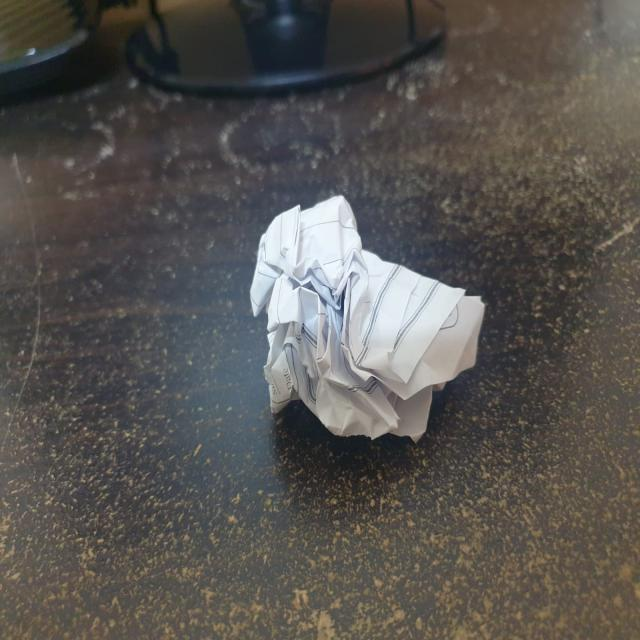Paper: (251, 199, 486, 440)
